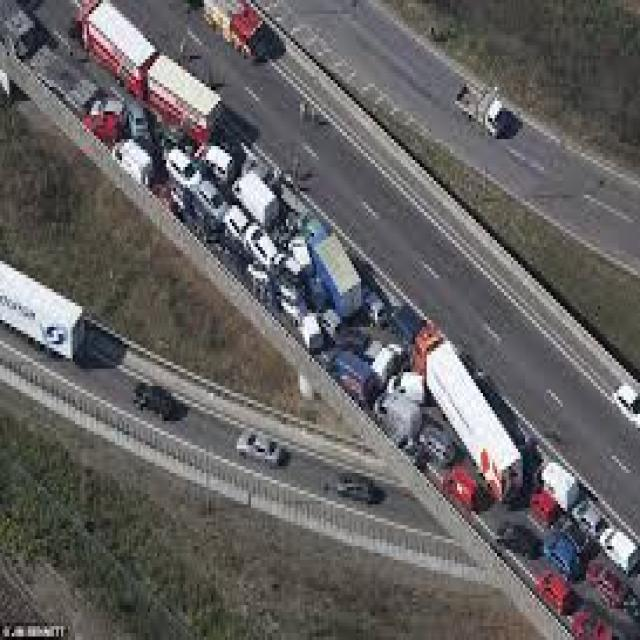traffic_incident: (70, 0, 558, 525)
